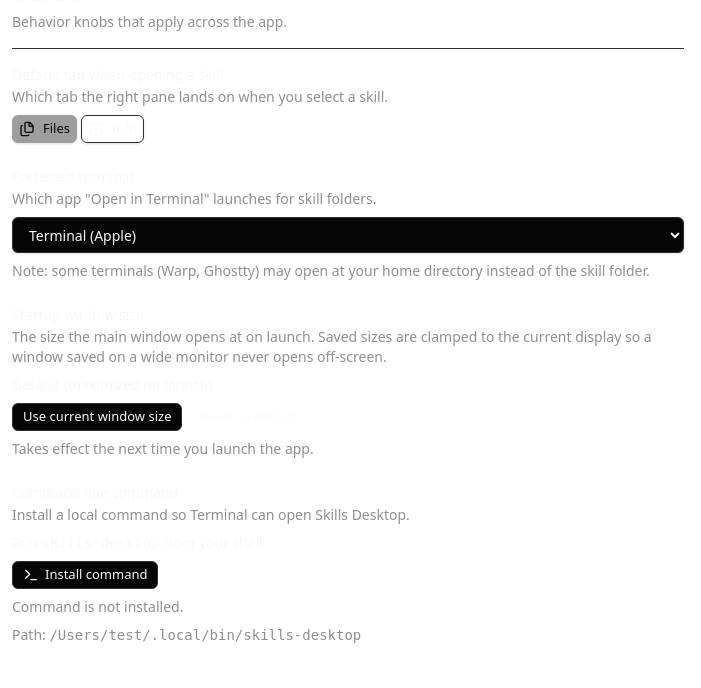
it: Settings → General startup window size › disables capture and explains why when the main window is already closed at save time
Click the button "Use current window size".
click(97, 417)  # box [12,403,182,431]
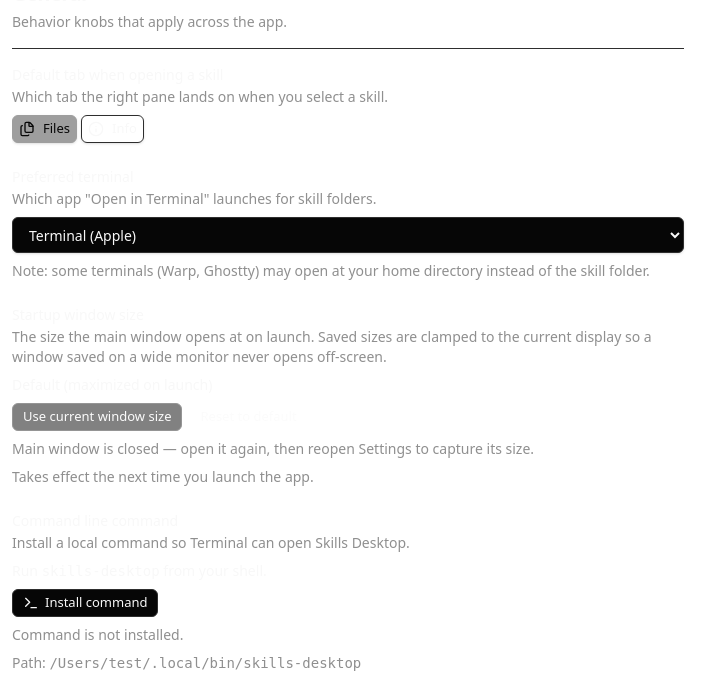
Now the text "Main window is closed — open it again, then reopen Settings" is shown, box [12,439,534,458]
